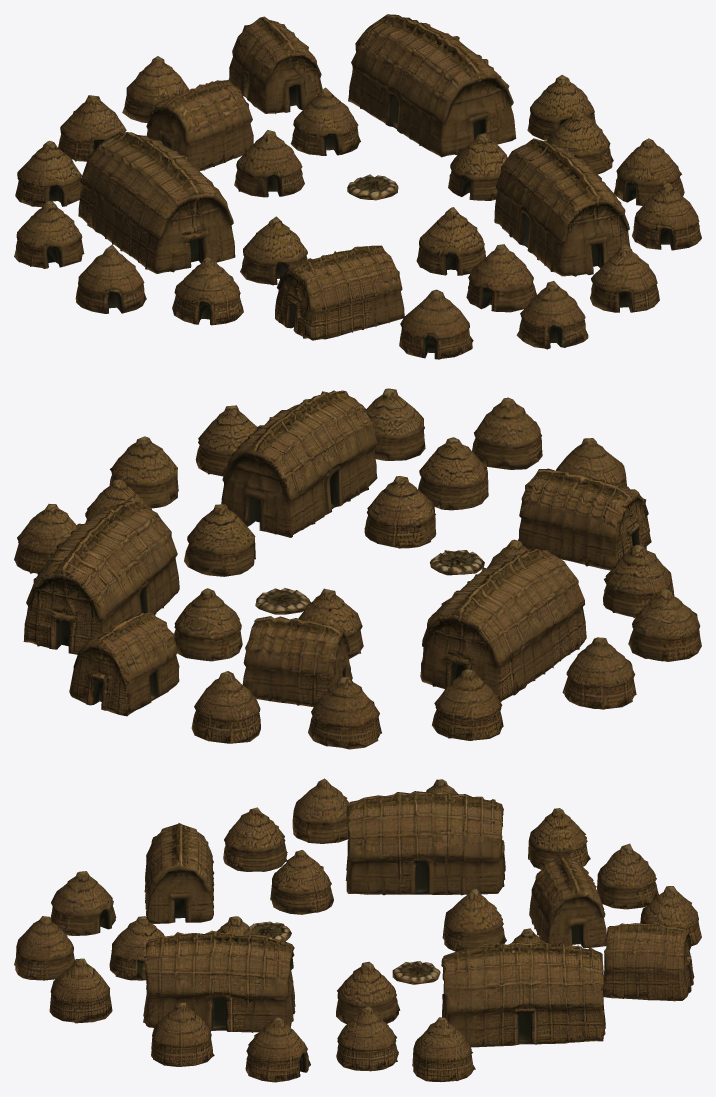
File: Ancient Town (North American Native).fbx
3 views of the same model, one above another, from view 1: azimuth 30°, elevation 25°; view 2: azimuth 150°, elevation 25°; view 3: azimuth 270°, elevation 25° (orthographic). The views are drawn at different scales.
Visible parts, largest first — view 1: tripo_node_69a1ee9a; view 2: tripo_node_69a1ee9a; view 3: tripo_node_69a1ee9a.
Part boxes in pixels (bbox=[...]): tripo_node_69a1ee9a: bbox=[14, 14, 701, 359]; tripo_node_69a1ee9a: bbox=[14, 388, 701, 749]; tripo_node_69a1ee9a: bbox=[14, 778, 701, 1082].
Size of the model in its own units: 0.9189 by 0.1384 by 1.
